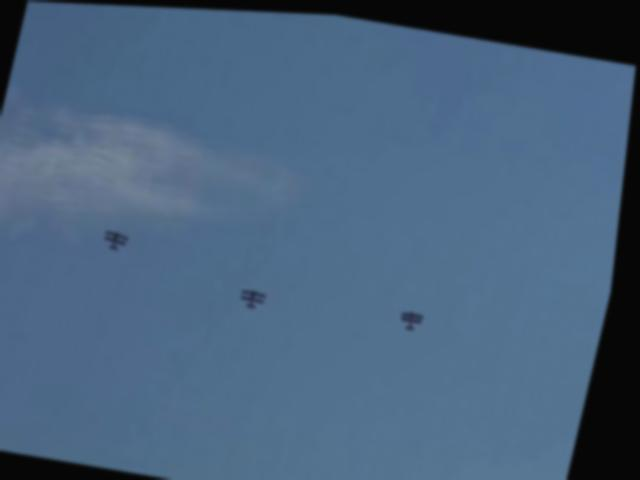uav: (103, 223, 142, 255), (243, 281, 274, 312), (404, 304, 436, 329)
